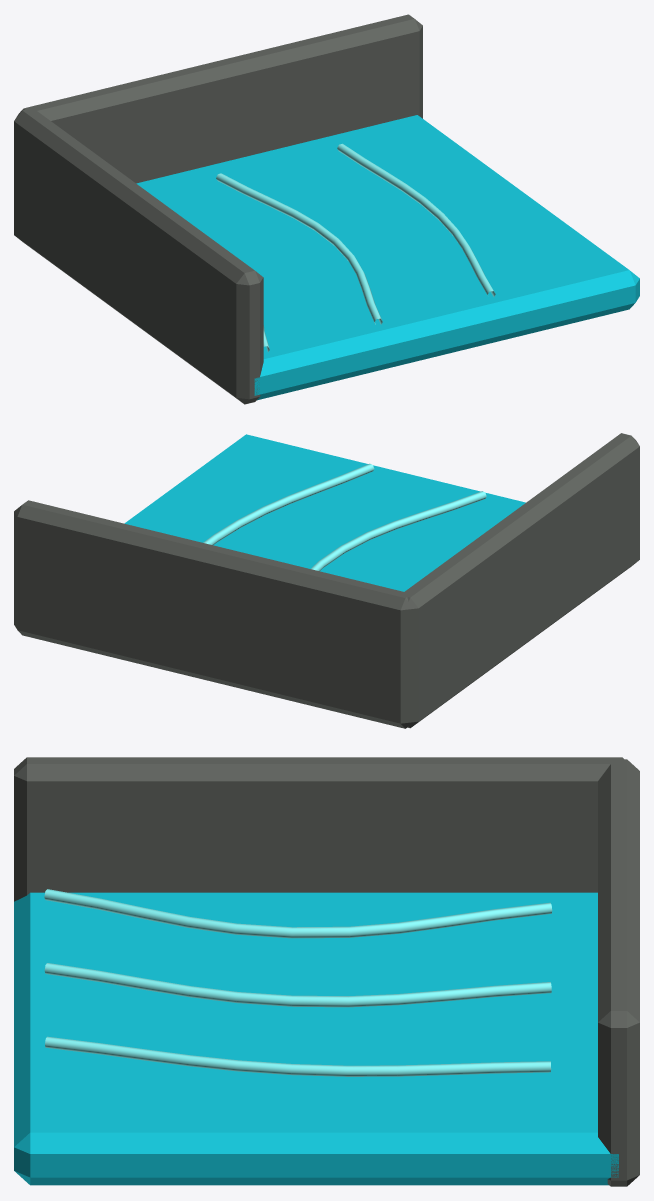
File: terrain-ice-28.glb
The picture shows the model from 3 angles, top to bottom: view 1: azimuth 30°, elevation 25°; view 2: azimuth 150°, elevation 25°; view 3: azimuth 270°, elevation 25°; orthographic projection. The views are drawn at different scales.
Visible parts, largest first — view 1: terrain-ice-28; view 2: terrain-ice-28; view 3: terrain-ice-28.
Boxes of the visible parts, <box> form: terrain-ice-28: <box>14,14,639,404</box>; terrain-ice-28: <box>14,433,639,728</box>; terrain-ice-28: <box>14,757,639,1186</box>.
Bounding box in the file's own units: 0.9675 × 0.3 × 0.9675.
